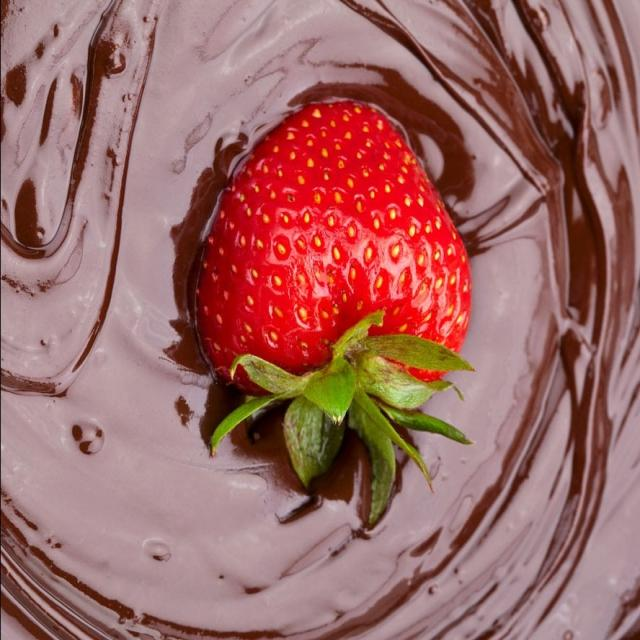strawberry: (158, 62, 514, 524)
